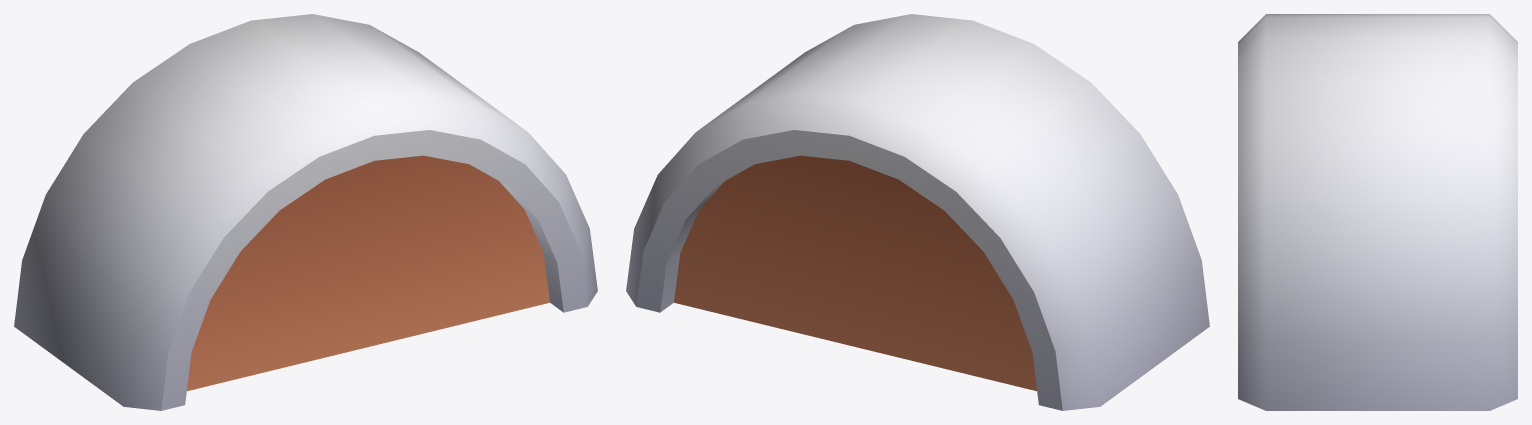
Rendered from block-snow-curve.glb.
3 views of the same model, side by side, from view 1: azimuth 30°, elevation 25°; view 2: azimuth 150°, elevation 25°; view 3: azimuth 270°, elevation 25° (orthographic). The views are drawn at different scales.
Parts seen in each view (by area): view 1: block-snow-curve; view 2: block-snow-curve; view 3: block-snow-curve.
Boxes of the visible parts, <box> form: block-snow-curve: <box>14,14,597,410</box>; block-snow-curve: <box>626,14,1209,410</box>; block-snow-curve: <box>1238,14,1517,410</box>.
Size of the model in its own units: 2 by 1 by 1.
1 material, 1 textured.
